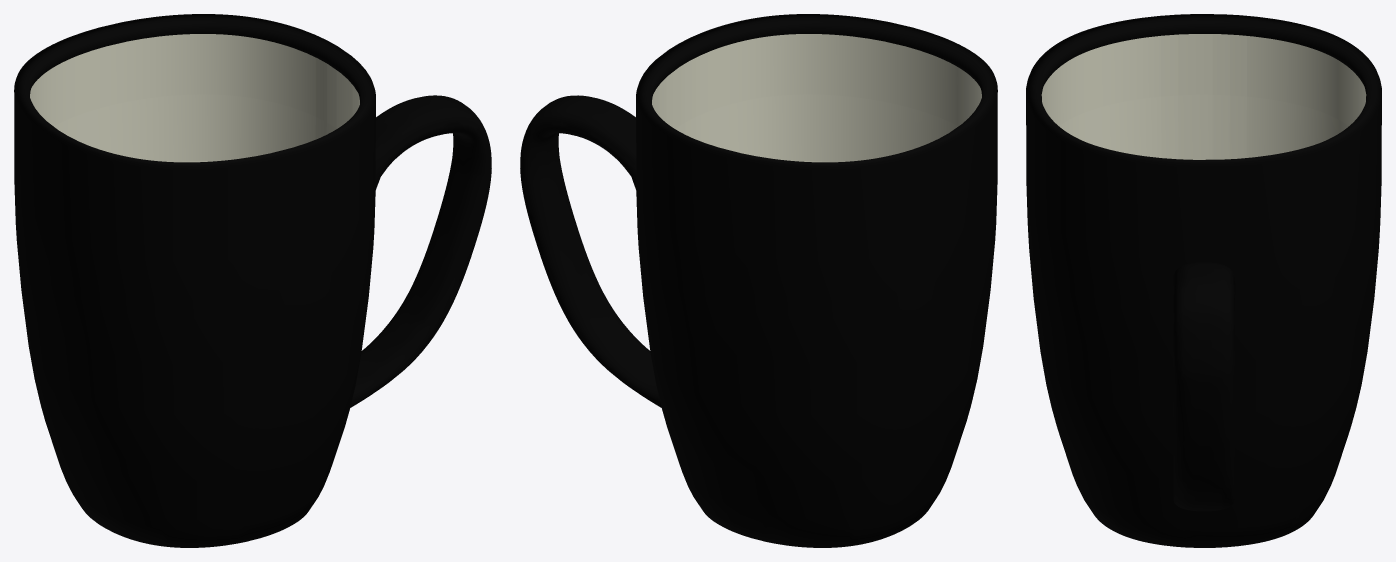
Rendered from mug.fbx.
The picture shows the model from 3 angles, left to right: view 1: azimuth 30°, elevation 25°; view 2: azimuth 150°, elevation 25°; view 3: azimuth 270°, elevation 25°; orthographic projection.
Parts seen in each view (by area): view 1: polySurface3; view 2: polySurface3; view 3: polySurface3.
Boxes of the visible parts, box(x1,y1,x2,y2) form: polySurface3: box(14, 14, 491, 547); polySurface3: box(520, 14, 997, 547); polySurface3: box(1026, 14, 1381, 547).
Bounding box in the file's own units: 4.79 × 4.26 × 3.33.
